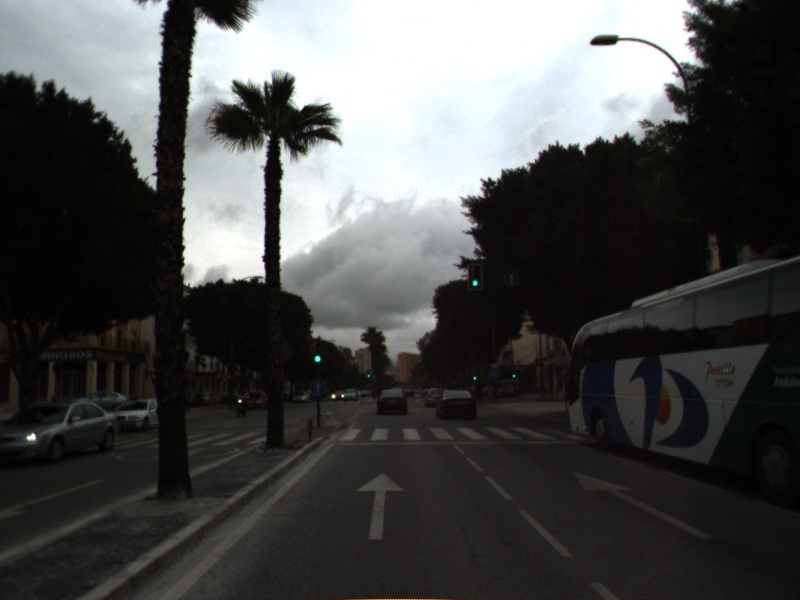STRAIGHT: (571, 469, 716, 541), (354, 470, 407, 541)
